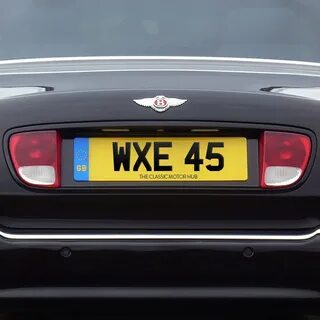number_plate: (74, 137, 248, 181)
